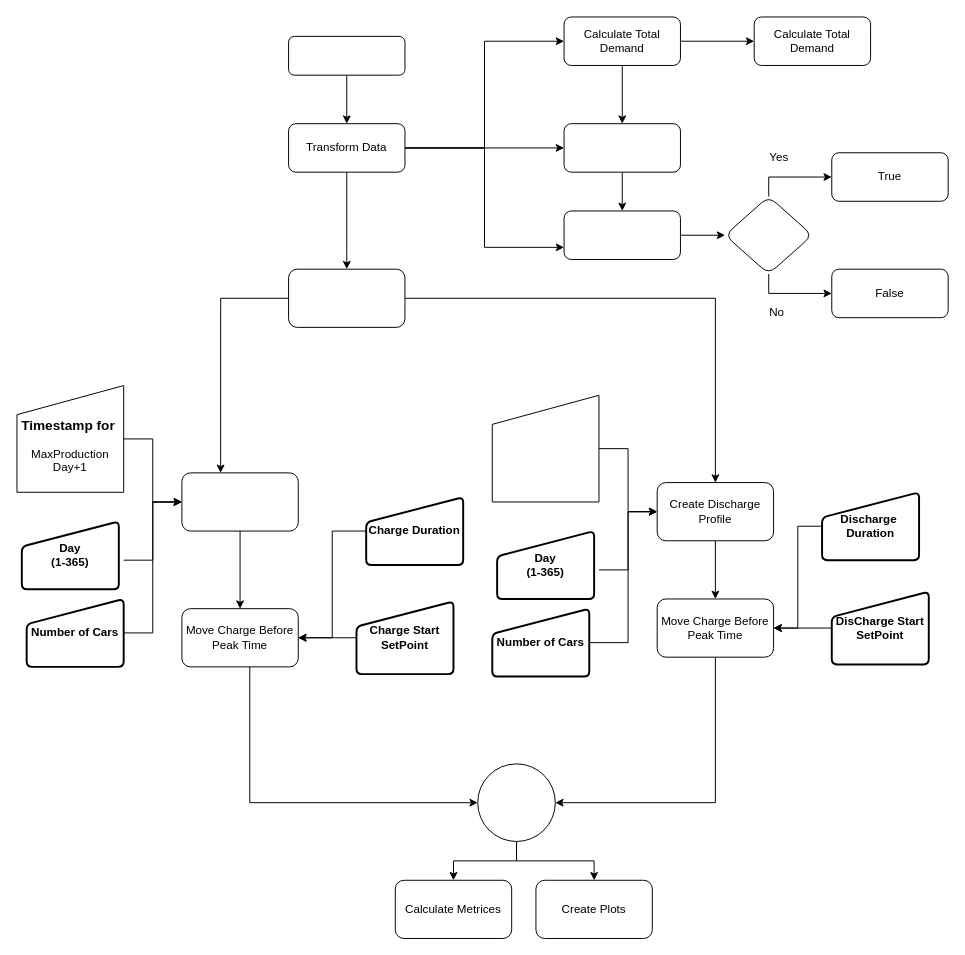
The diagram is 965 pixels wide and 955 high, and some of its shapes have lost their labels. Here are the shapes that lost their labels. From the top down, the centre of each, then its label:
the point at 346,55: Load Data
the point at 621,147: Calculate Imbalance
the point at 621,234: Imbalance Check
the point at 768,234: Imbalance>0
the point at 346,297: Split the data to daily data
the point at 545,448: Timestamp for MaxDemand Day+1
the point at 239,501: Create Charge Profile
the point at 516,802: Mege Datasets
